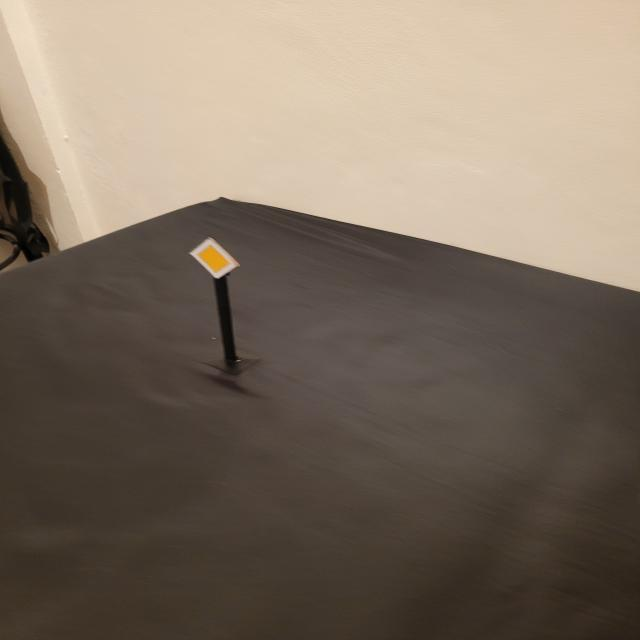priority: (187, 237, 239, 280)
